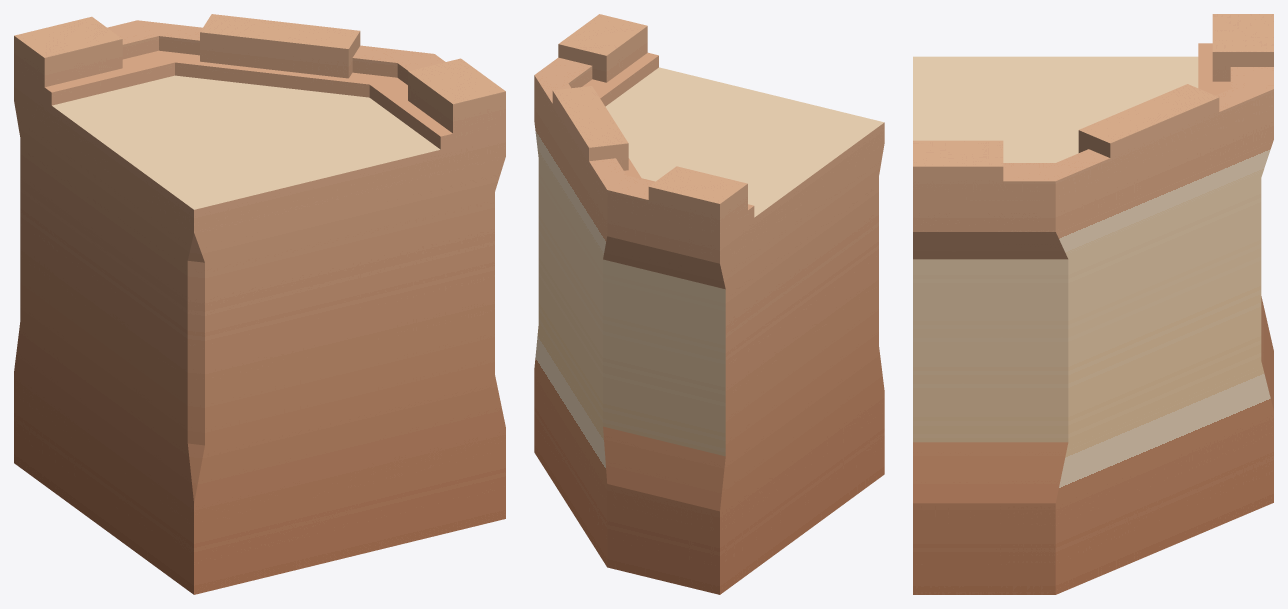
The model's file is wall-corner-slant.glb.
The picture shows the model from 3 angles, left to right: view 1: azimuth 30°, elevation 25°; view 2: azimuth 150°, elevation 25°; view 3: azimuth 270°, elevation 25°; orthographic projection. The views are drawn at different scales.
Visible parts, largest first — view 1: wall-corner-slant; view 2: wall-corner-slant; view 3: wall-corner-slant.
Part boxes in pixels (x1,y1,x2,y2): wall-corner-slant: (14,14,505,594); wall-corner-slant: (534,14,884,594); wall-corner-slant: (913,14,1273,594).
Bounding box in the file's own units: 1 × 1.31 × 1.
Materials: 1 (1 with a texture image).
